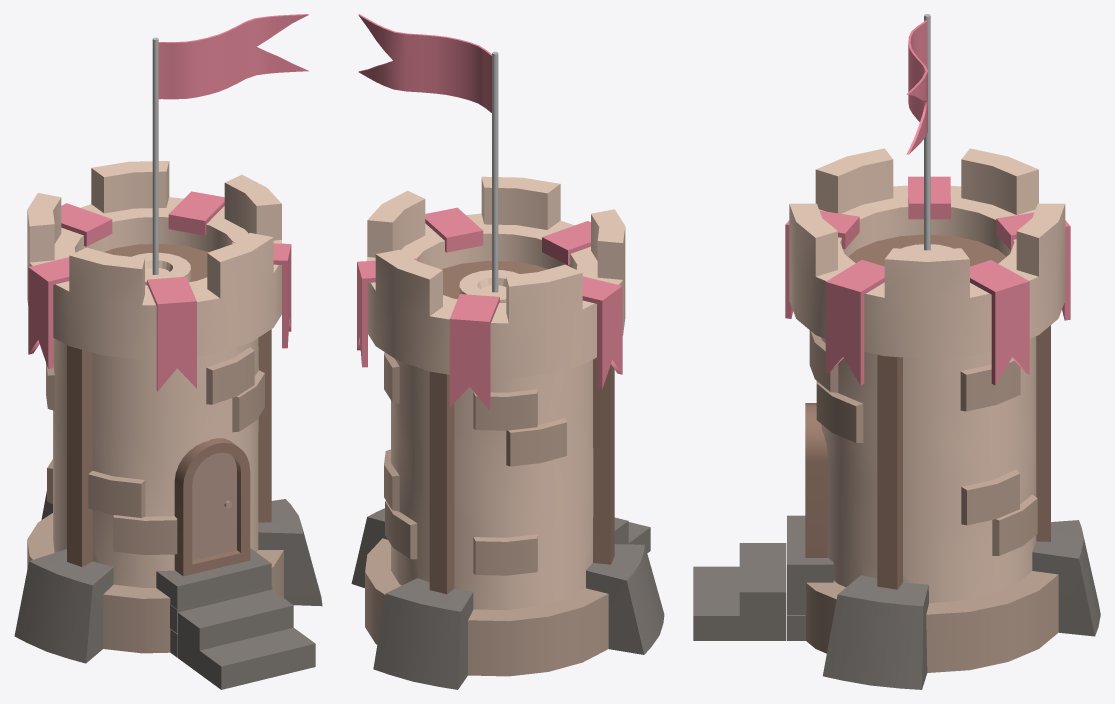
File: Tower.fbx
The picture shows the model from 3 angles, left to right: view 1: azimuth 30°, elevation 25°; view 2: azimuth 150°, elevation 25°; view 3: azimuth 270°, elevation 25°; orthographic projection. The views are drawn at different scales.
Parts seen in each view (by area): view 1: Tower; view 2: Tower; view 3: Tower.
Part boxes in pixels (x1,y1,x2,y2): Tower: (14,14,322,689); Tower: (351,14,664,689); Tower: (693,14,1100,689).
Size of the model in its own units: 46.55 by 86.47 by 53.3.
